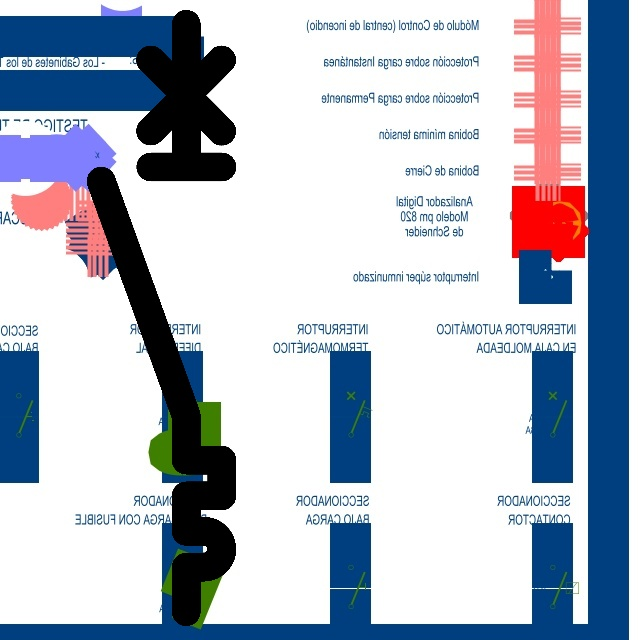interruptor_termomagnetico: (86, 9, 237, 627)
